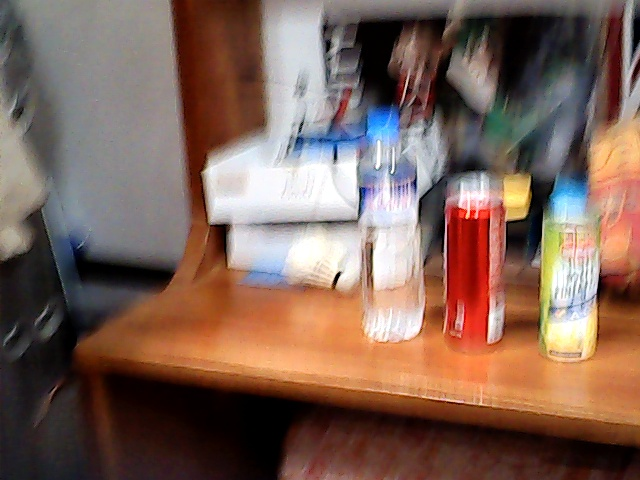Cola: (445, 202, 508, 348)
Pine Juice: (539, 215, 597, 360)
Summit Water: (358, 125, 423, 336)
